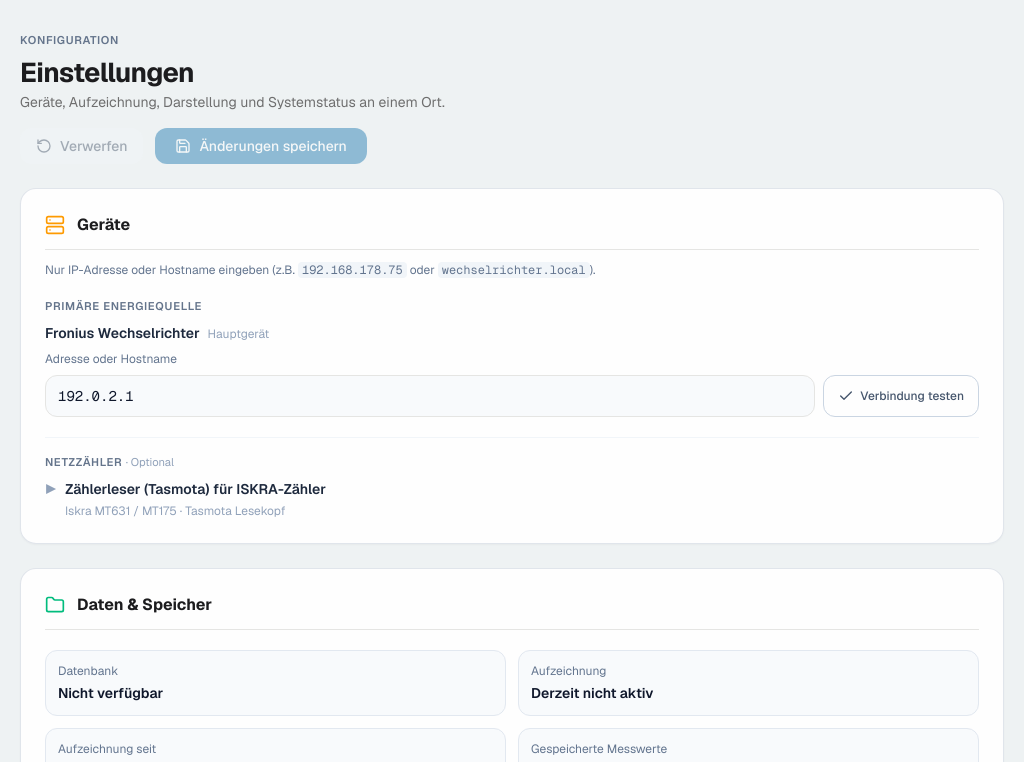
Test: SettingsView - persisted dirty state › programmatically labels both device address fields
expect the field named "Fronius Wechselrichter" holds "192.0.2.1": met, box [45,375,815,417]
Click the button "▶ Zählerleser (Tasmota) für ISKRA-Zähler" at (196, 489), box [45,479,979,499]
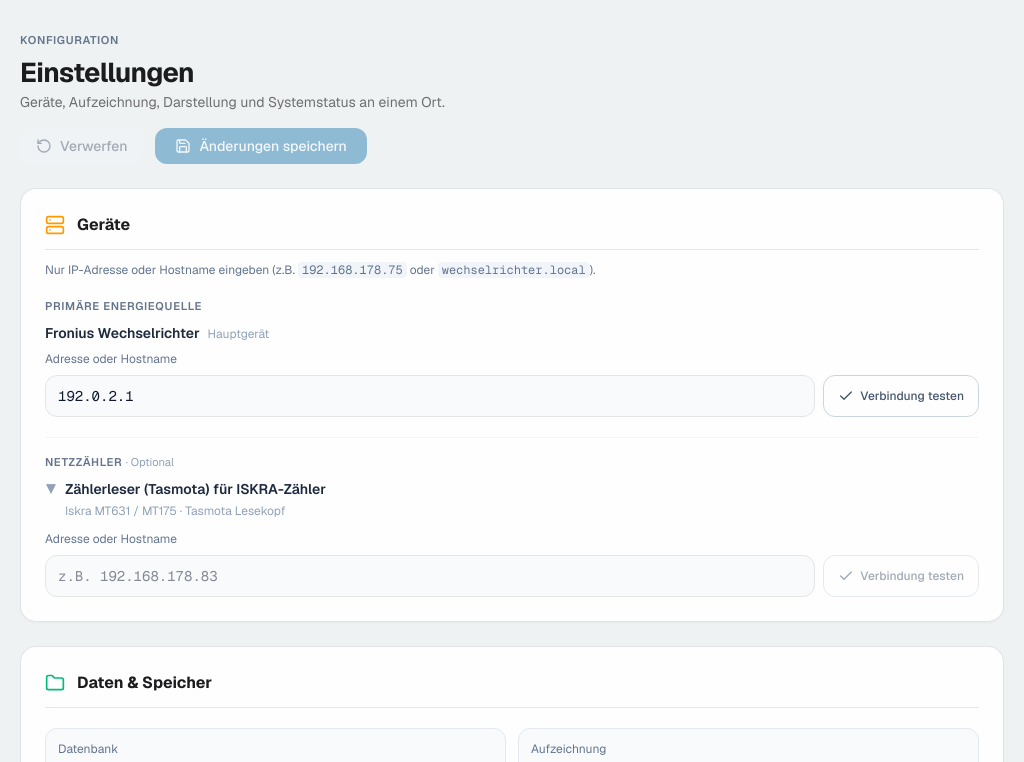
expect the field named "Zählerleser" is shown: met, box [45,555,815,597]
